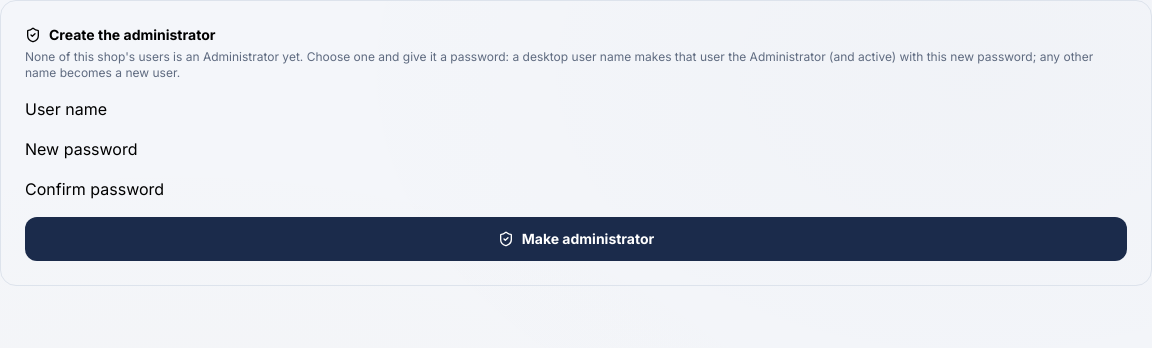
Scenario: CreateAdmin › shows mistakes under the fields and sends nothing
The width and height of the screenshot is (1152, 348).
Type "short" into the password field labelled "New password" at [254, 149], box x1=138 y1=137 x2=372 y2=161
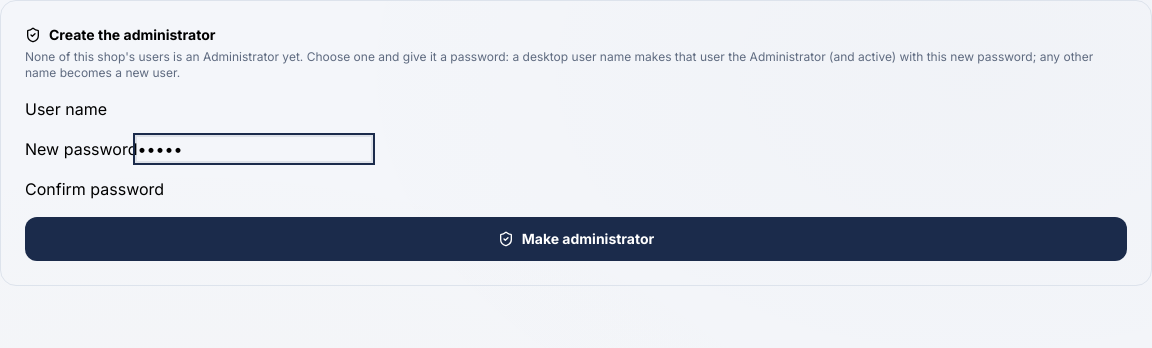
Click the button "Make administrator" at [576, 239], box x1=25 y1=217 x2=1127 y2=261
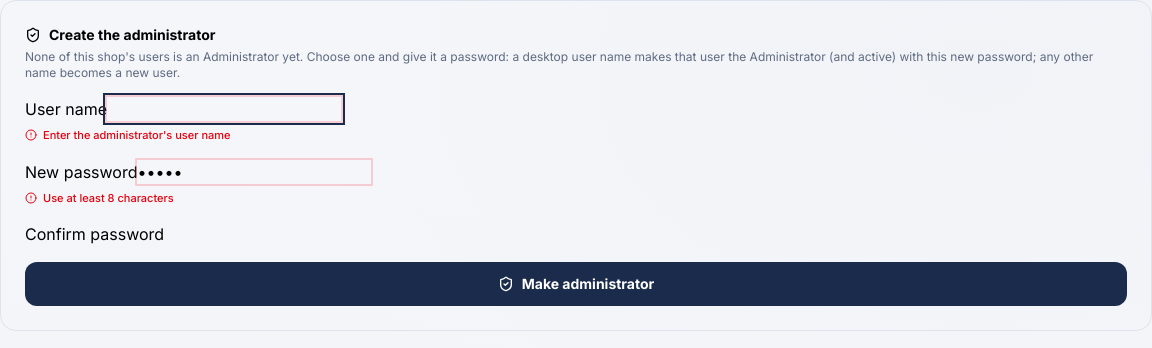
Expected: the text "Enter the administrator's user name" is shown, x1=43 y1=127 x2=230 y2=144
Expected: the text "Use at least 8 characters" is shown, x1=43 y1=190 x2=174 y2=206
